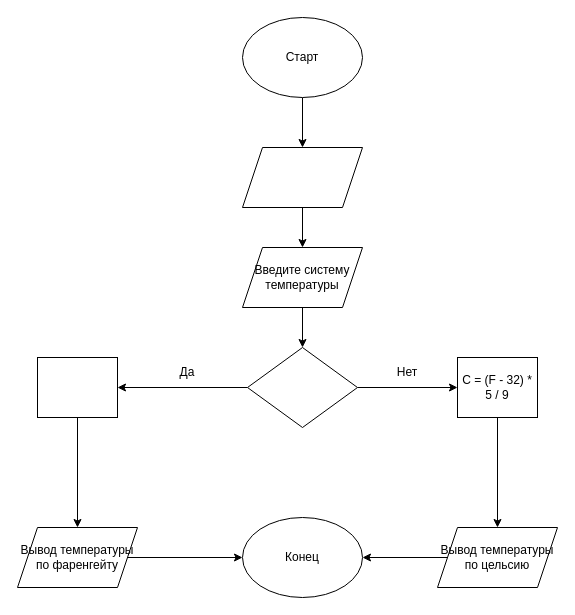
Image size: 575x615. Some labels were removed from this diagram. The shapes that lost their labels are listed below. From the top down, each one's centre as x and y in pixels, then its label:
At [302,177]: "Введите температуру".
At [77,387]: "F = C * 9 / 5 + 32".
At [302,387]: "Ваша температура по цельсию?".
